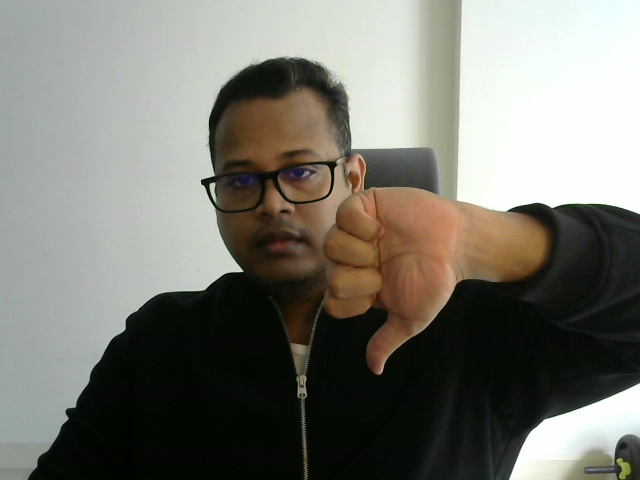ThumbsDown: (323, 187, 456, 374)
